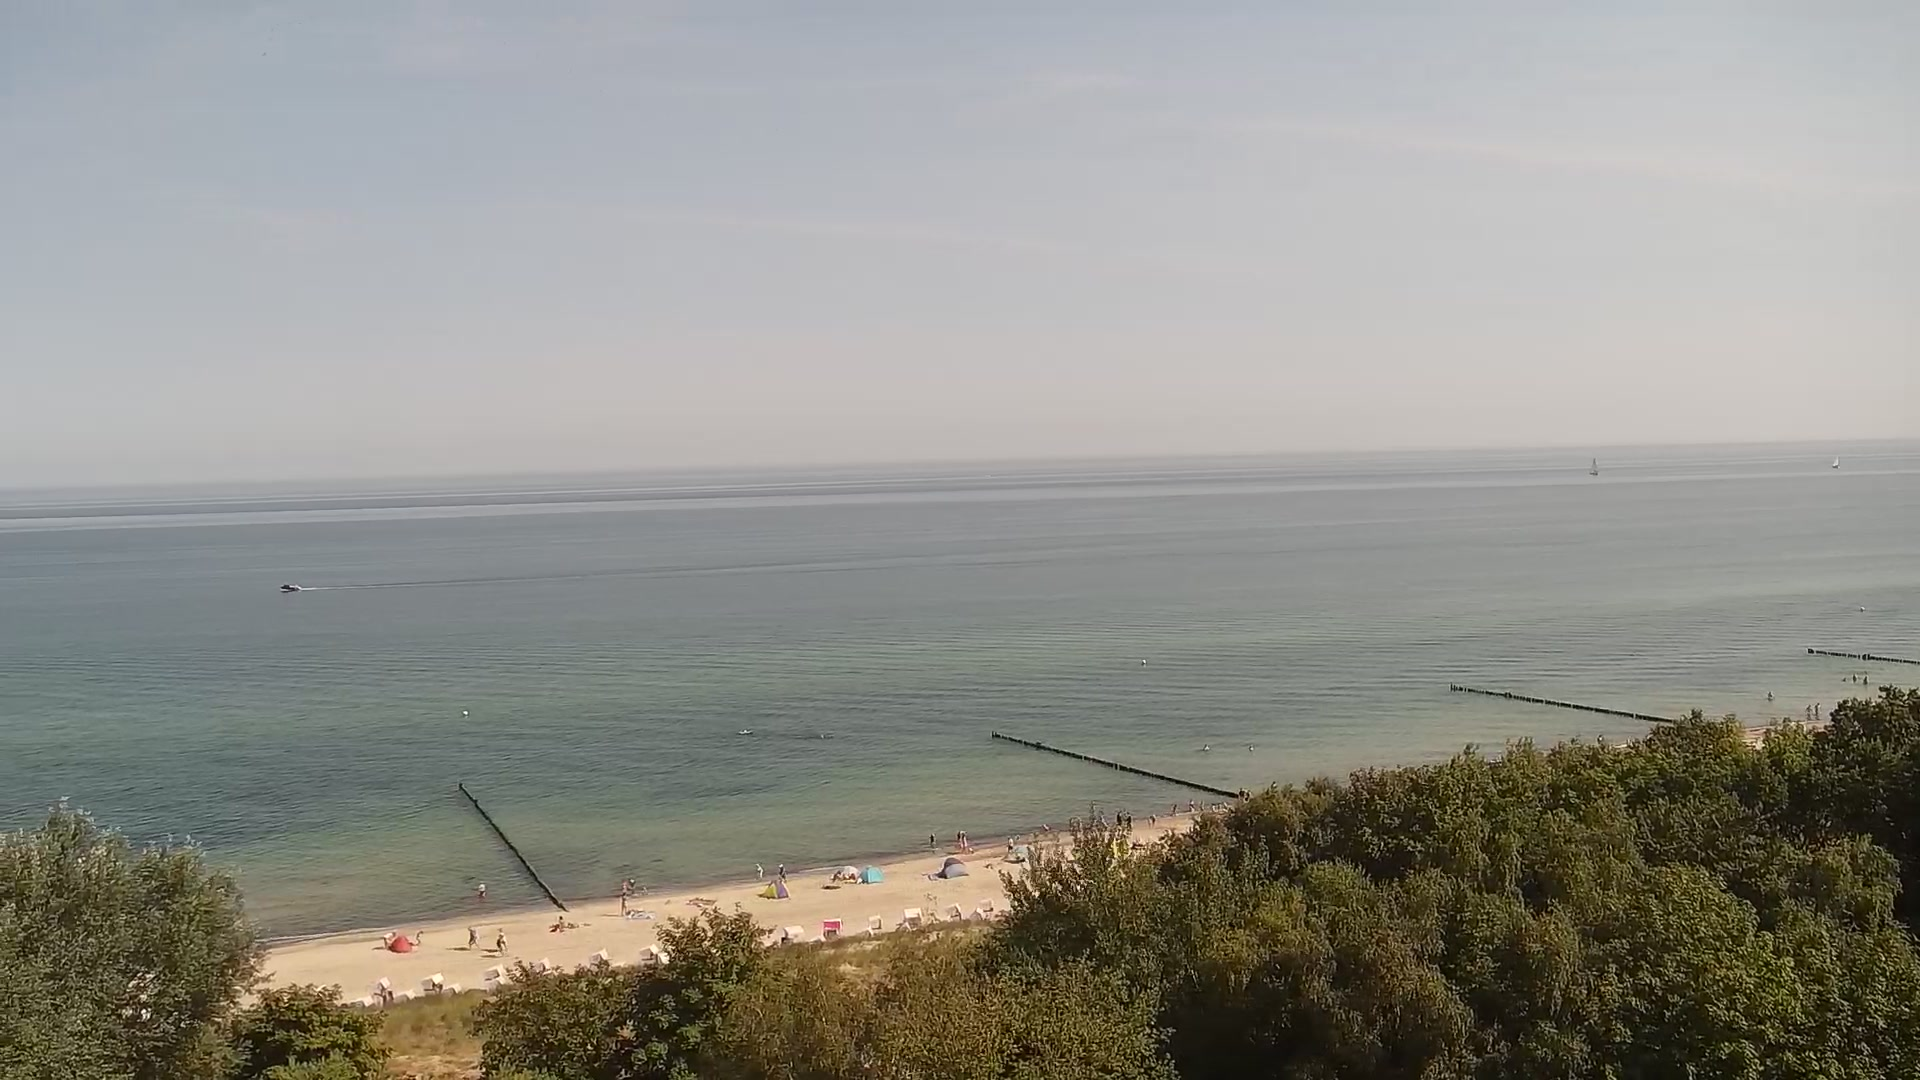human: (495, 928, 508, 954), (467, 925, 478, 951), (619, 892, 629, 918), (382, 930, 397, 948), (776, 862, 787, 883), (476, 880, 488, 899), (955, 829, 967, 849), (1005, 835, 1014, 853), (754, 863, 764, 880), (555, 915, 565, 931), (415, 930, 424, 946), (1116, 810, 1123, 828), (1124, 811, 1132, 830), (620, 878, 628, 895), (628, 877, 636, 894), (1805, 702, 1813, 717), (1813, 702, 1821, 718), (928, 832, 936, 846), (1187, 798, 1195, 812), (1202, 743, 1212, 753), (1171, 802, 1178, 816), (1238, 787, 1245, 802), (1148, 815, 1157, 827), (1766, 690, 1774, 702), (1852, 673, 1858, 684), (1246, 788, 1252, 801), (1862, 675, 1869, 685), (1247, 744, 1254, 752), (1842, 676, 1847, 682)
sea: (279, 583, 302, 594), (1586, 457, 1599, 475), (1830, 455, 1841, 469), (737, 728, 753, 735)
